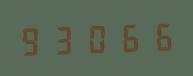nine: (18, 22, 48, 57)
six: (111, 19, 141, 54), (142, 18, 172, 53)
three: (49, 21, 79, 56)
zero: (80, 20, 110, 55)
